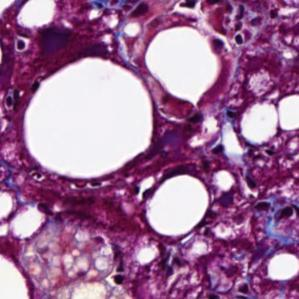inflammation: (214, 194, 297, 241), (214, 2, 266, 56), (192, 264, 260, 299)
